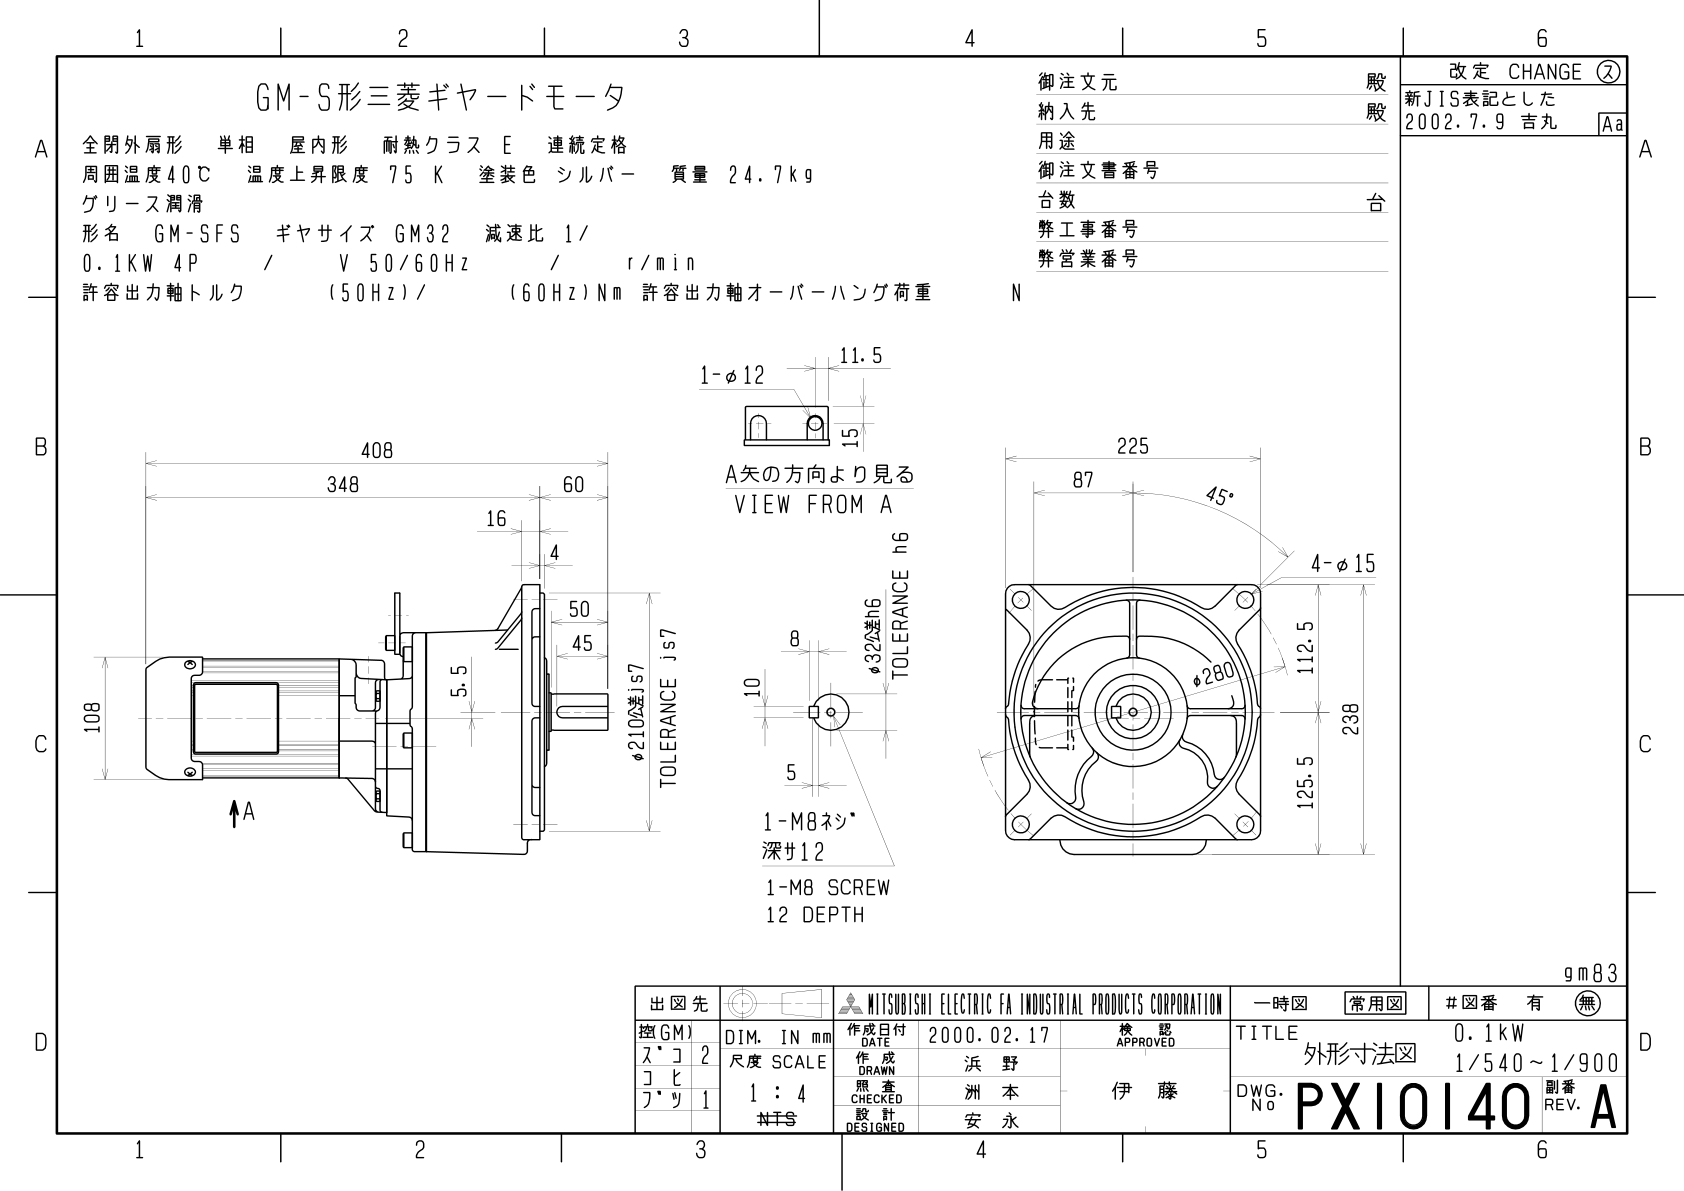GM_S_屋内＿単相_フランジ: (77, 339, 1392, 962)
